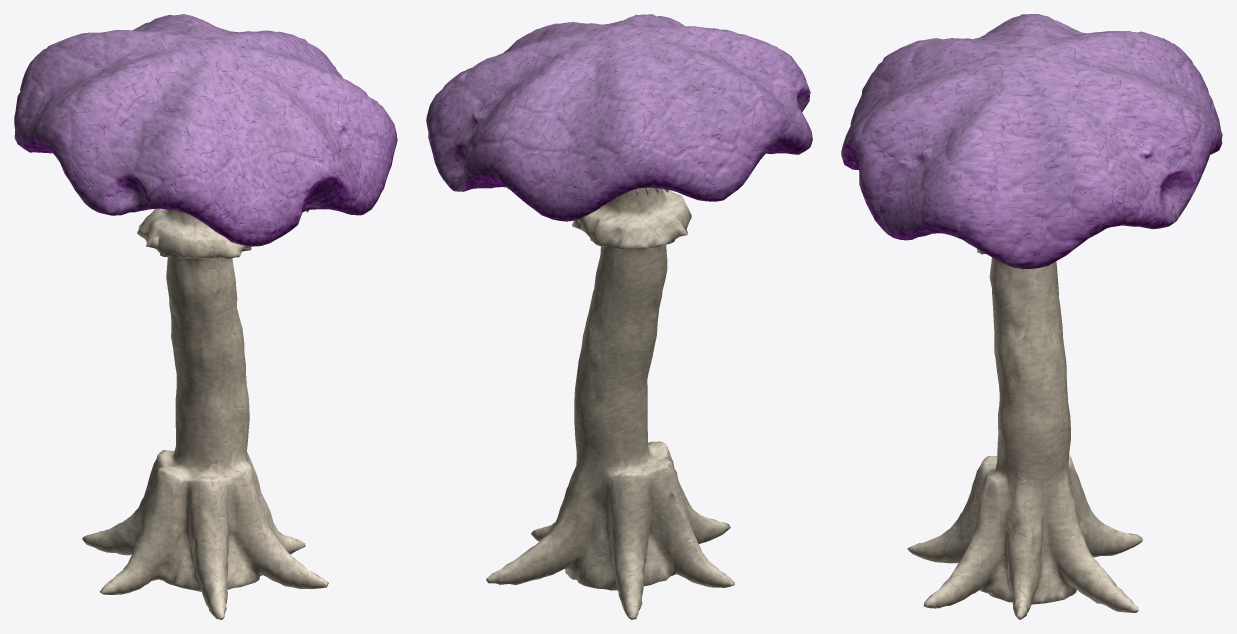
File: giant.glb
The picture shows the model from 3 angles, left to right: view 1: azimuth 30°, elevation 25°; view 2: azimuth 150°, elevation 25°; view 3: azimuth 270°, elevation 25°; orthographic projection.
Parts seen in each view (by area): view 1: glow_cap, stem; view 2: glow_cap, stem; view 3: glow_cap, stem.
Boxes of the visible parts, bbox=[...] form: glow_cap: bbox=[14, 14, 397, 246]; stem: bbox=[82, 208, 328, 619]; glow_cap: bbox=[426, 14, 812, 221]; stem: bbox=[486, 187, 734, 619]; glow_cap: bbox=[841, 14, 1222, 269]; stem: bbox=[907, 248, 1142, 619].
Size of the model in its own units: 3.11 by 5 by 3.17.
3 materials, 3 textured.
